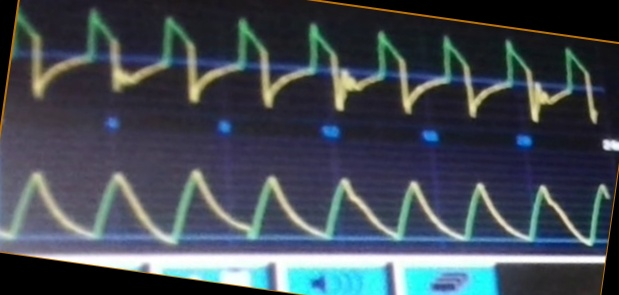Premature_cycling Flow: (18, 7, 604, 124)
Premature_cycling Volume: (2, 153, 603, 248)
